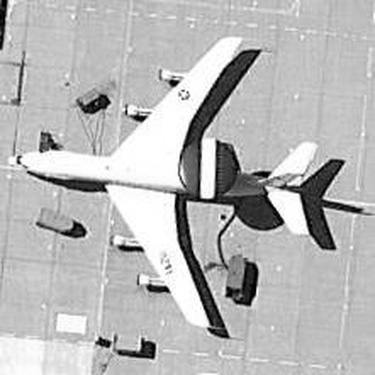airplane: (2, 12, 323, 344)
